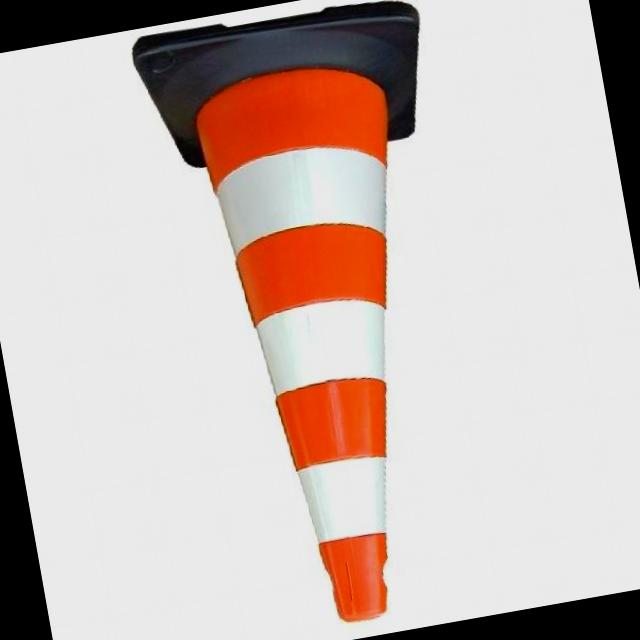cone: (121, 0, 515, 639)
